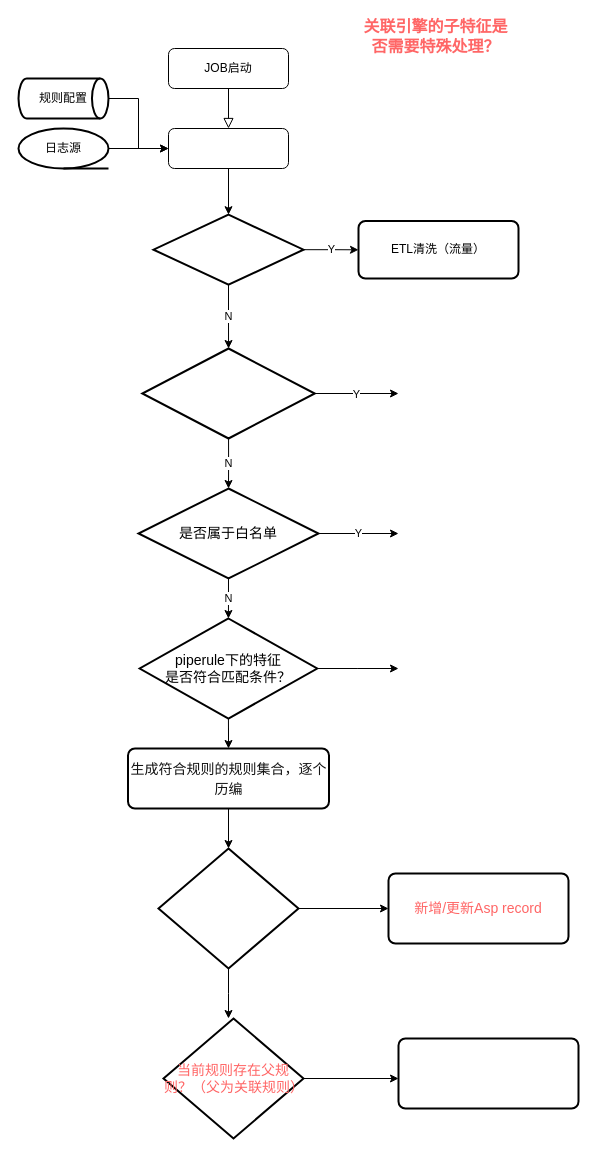
This 596x1157 diagram has some shape labels left out. The box of each missing label's shape, as (x1, y1, x2, y2) in pixels:
log.type==recall 回溯记录？: (141, 347, 315, 439)
log.type==流量？: (152, 213, 304, 285)
加载配置和数据流: (168, 128, 288, 168)
属于统计型规则？: (157, 847, 299, 969)
新增/更新Asp records（一条或多条）: (397, 1037, 579, 1109)
